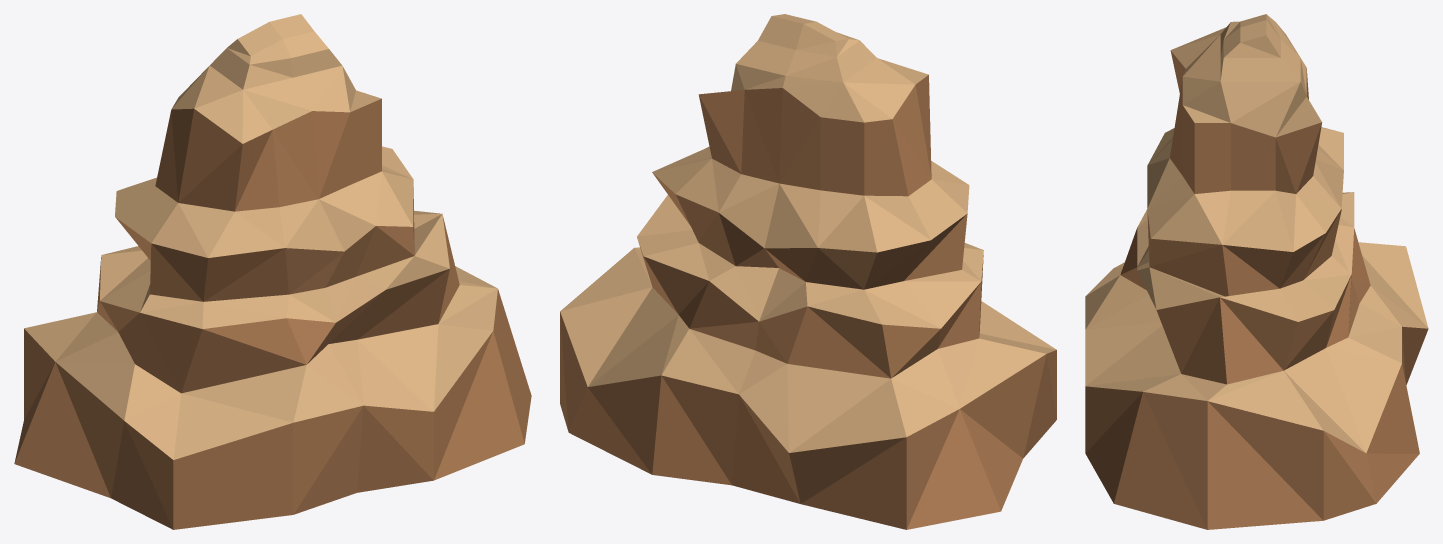
File: Rock_15.fbx
3 views of the same model, side by side, from view 1: azimuth 30°, elevation 25°; view 2: azimuth 150°, elevation 25°; view 3: azimuth 270°, elevation 25° (orthographic). The views are drawn at different scales.
Parts seen in each view (by area): view 1: Rock_15; view 2: Rock_15; view 3: Rock_15.
Boxes of the visible parts, x1=… form: Rock_15: x1=14, y1=14, x2=531, y2=529; Rock_15: x1=560, y1=14, x2=1056, y2=529; Rock_15: x1=1085, y1=14, x2=1428, y2=529.
Bounding box in the file's own units: 460 × 306 × 393.
